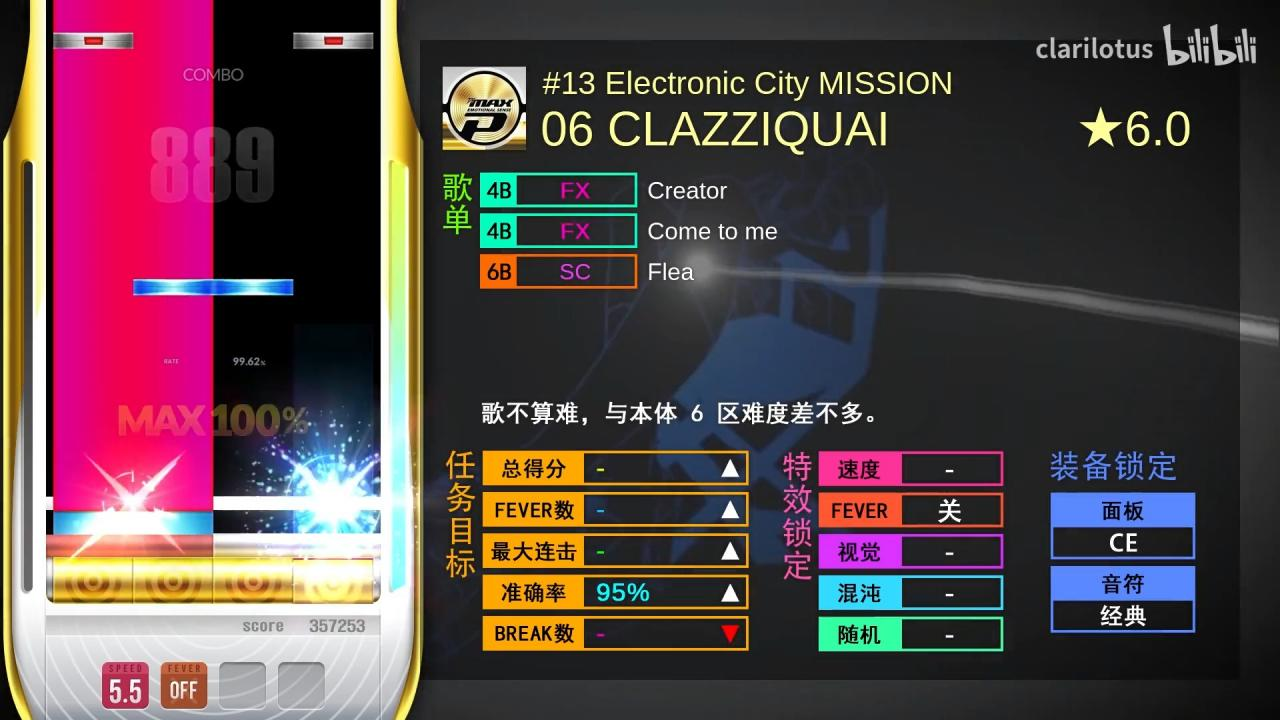note: (132, 278, 214, 296), (293, 32, 374, 49), (53, 32, 134, 48)
